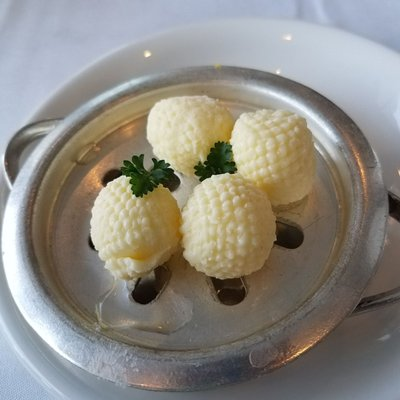curry: (118, 153, 180, 198)
sushi: (1, 24, 400, 400)
